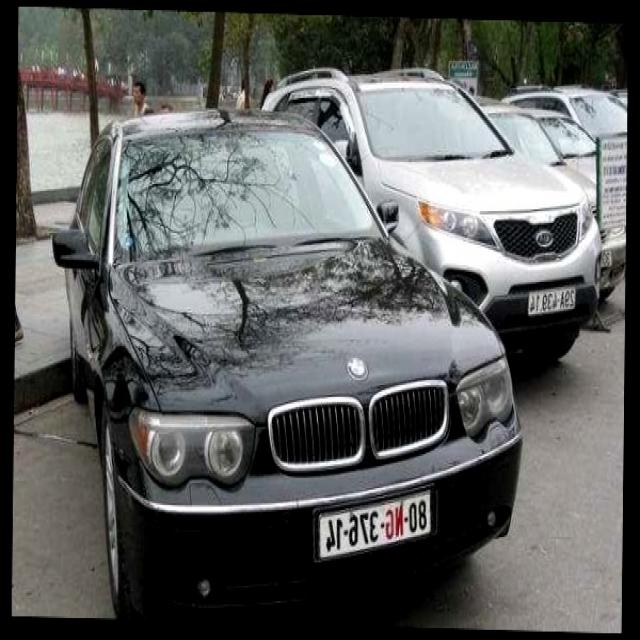bien_ngoai_giao: (312, 484, 435, 561)
bien_trang: (526, 291, 578, 318)
